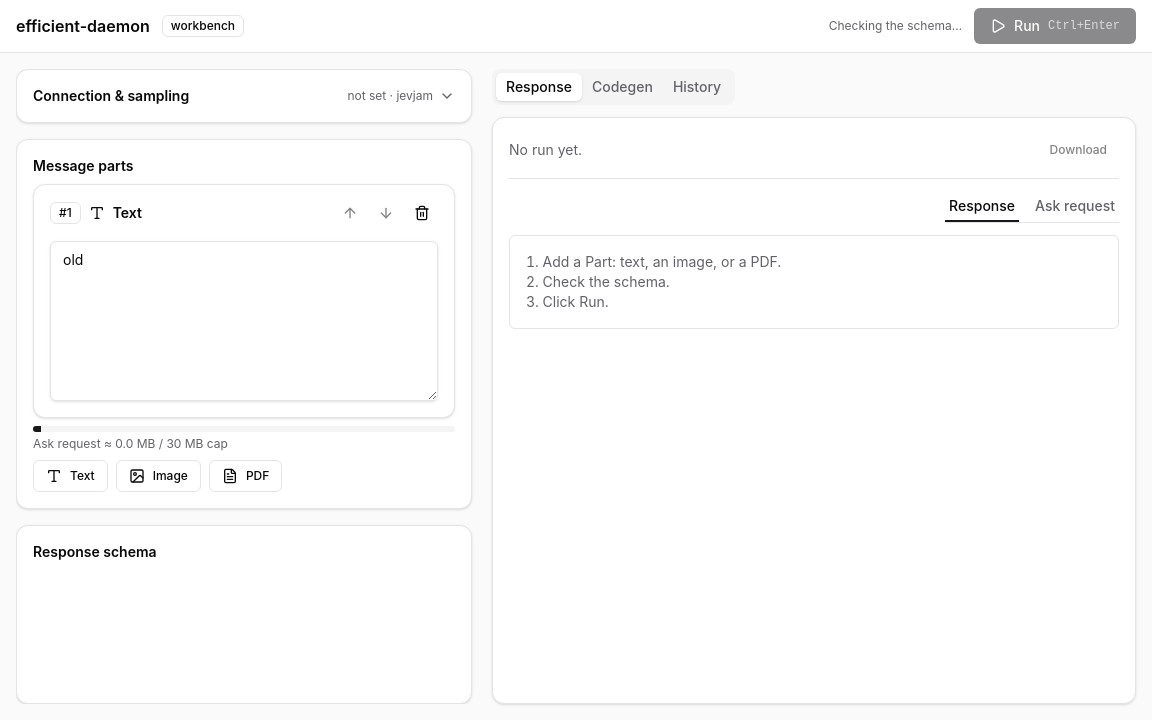
Scenario: Undo restore › keeps focus on the History panel after Undo
Press the mouse on the tab "History" at [697, 87], box [663,73,731,101]
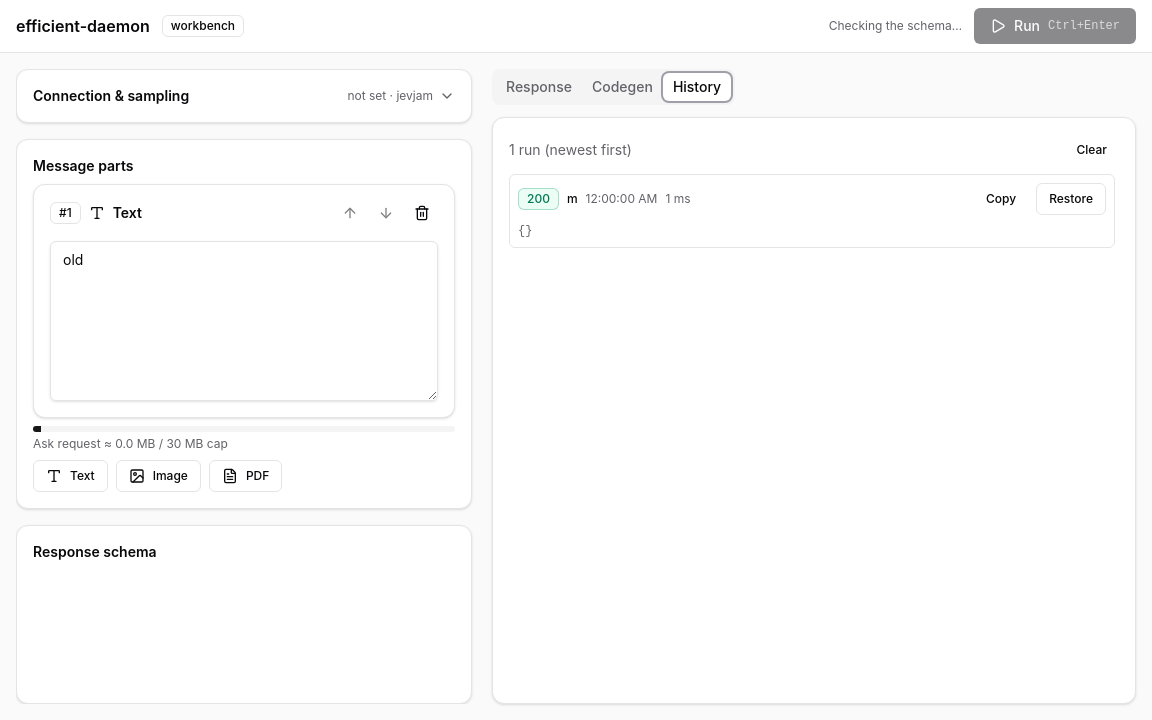
Click the button "Restore" at [1071, 199], box [1036,183,1106,215]
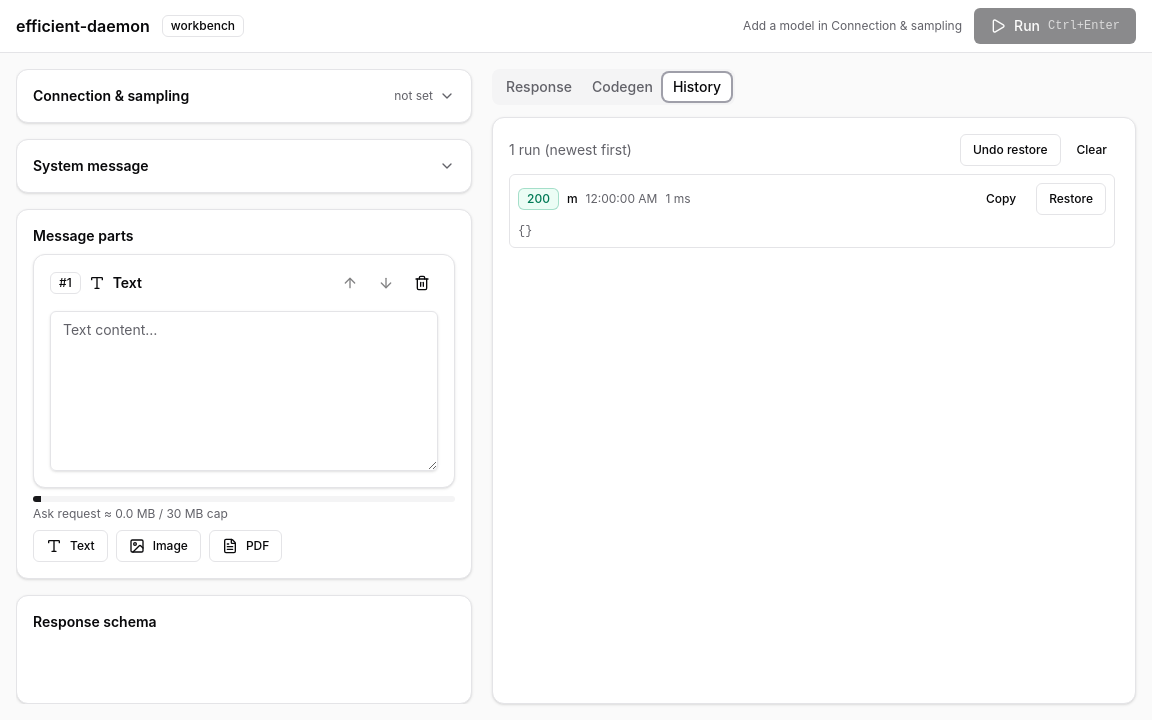
Click the button "Undo restore" at [1010, 150], box [960,134,1061,166]
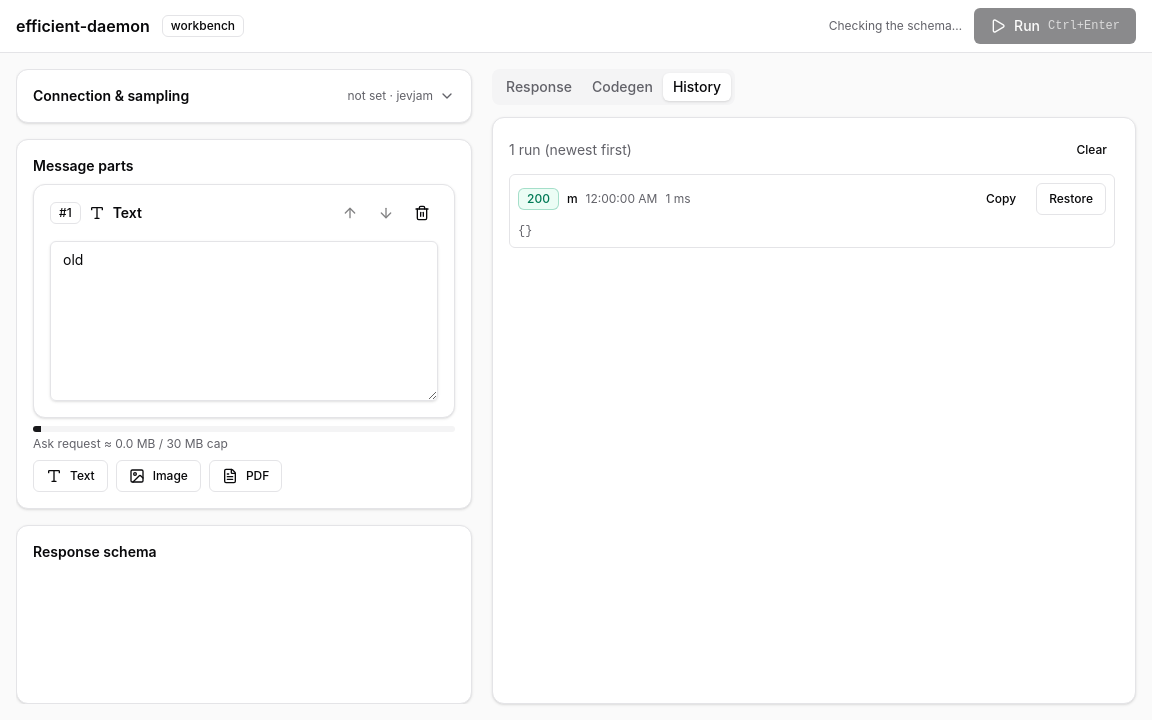
Check: the text box holds "old", box [50,241,438,401]
